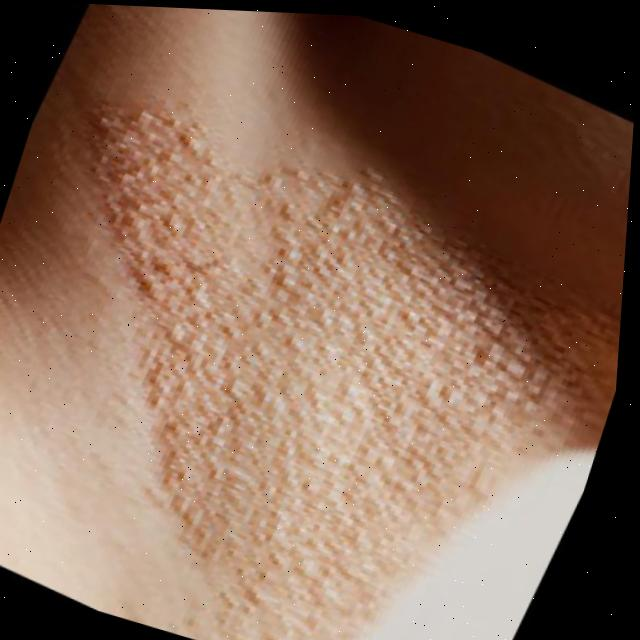Eczema: (8, 89, 549, 609)
